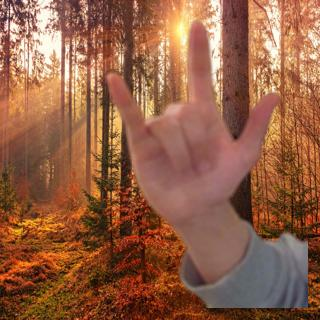ILY: (98, 18, 285, 225)
